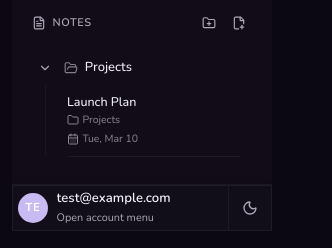
Test: Sidebar › collapses and expands note folders from the sidebar
Expected: the text "Launch Plan" is shown, left=67, top=93, right=136, bottom=112
Click the button named "Collapse folder Projects": (45, 68) left=33, top=53, right=57, bottom=83
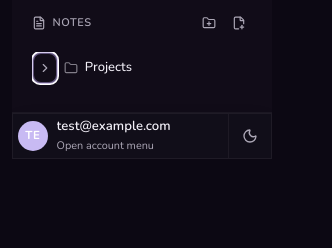
Expected: the button "Launch Plan" is gone
Click the button named "Expand folder Projects": (45, 68) left=33, top=53, right=57, bottom=83
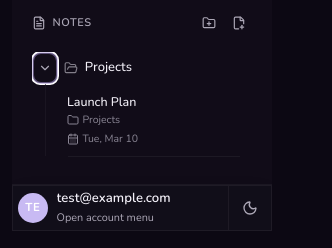
Expected: the text "Launch Plan" is shown, left=67, top=93, right=136, bottom=112
